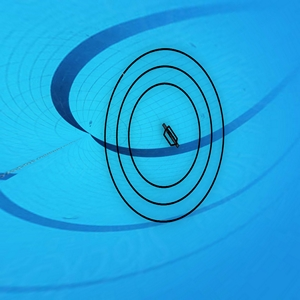circle: (104, 46, 227, 223)
submarine: (159, 124, 181, 148)
